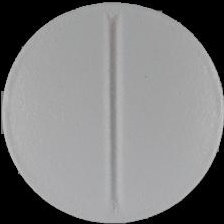60760-195: (0, 0, 224, 224)
